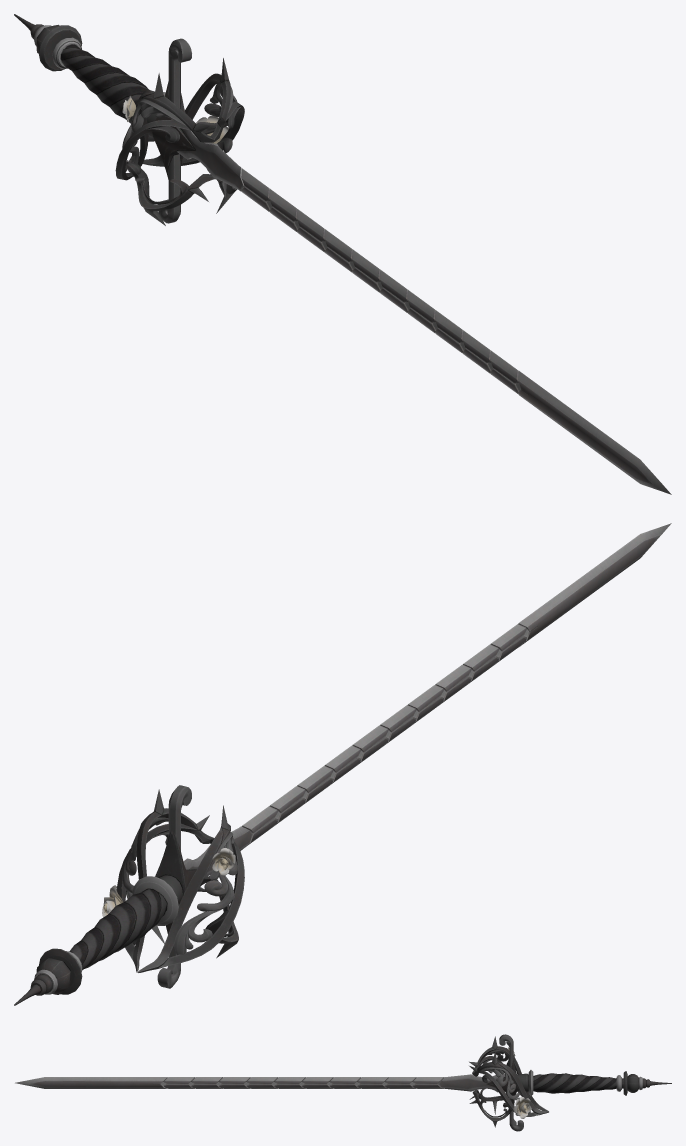
Rendered from raw.glb.
3 views of the same model, one above another, from view 1: azimuth 30°, elevation 25°; view 2: azimuth 150°, elevation 25°; view 3: azimuth 270°, elevation 25° (orthographic). The views are drawn at different scales.
Visible parts, largest first — view 1: sextans_sword_LOD0; view 2: sextans_sword_LOD0; view 3: sextans_sword_LOD0.
Part boxes in pixels (bbox=[...]): sextans_sword_LOD0: bbox=[14, 14, 671, 494]; sextans_sword_LOD0: bbox=[14, 523, 671, 1005]; sextans_sword_LOD0: bbox=[15, 1034, 671, 1131].
Bounding box in the file's own units: 0.1121 × 0.1664 × 1.04.
Materials: 1 (1 with a texture image).
